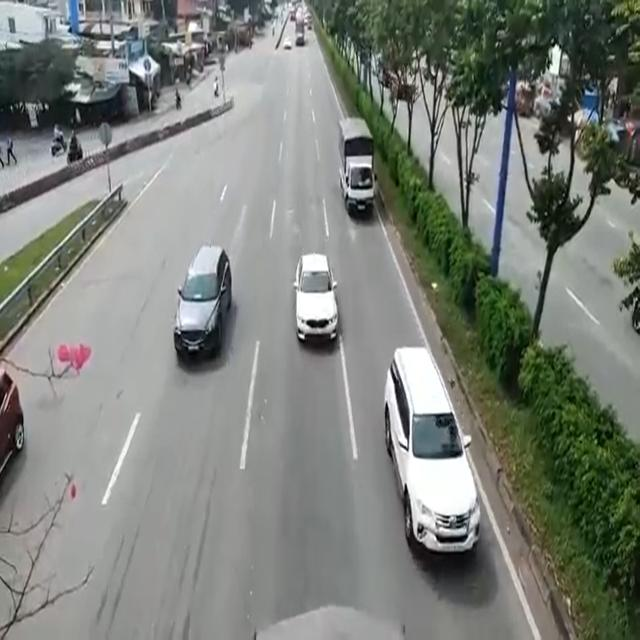car: (384, 342, 478, 559), (174, 244, 224, 369), (294, 252, 334, 350)
truck: (337, 113, 375, 214)
